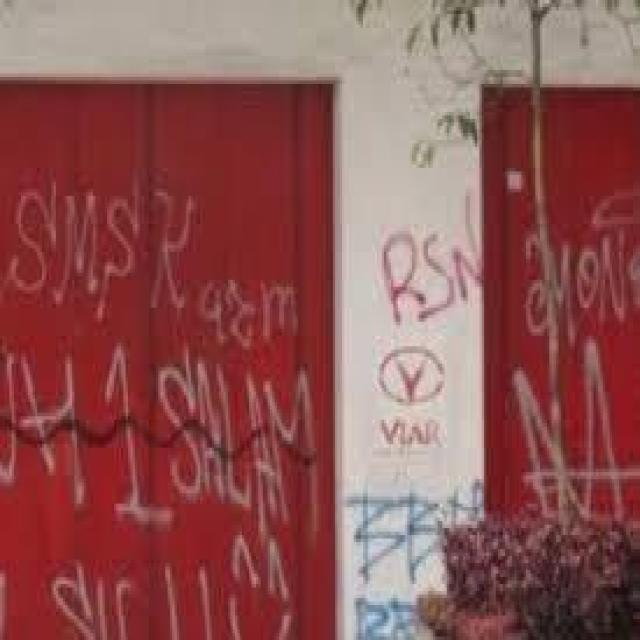nonspitting: (0, 185, 319, 640), (516, 195, 640, 517), (380, 216, 480, 454), (344, 482, 484, 640)
